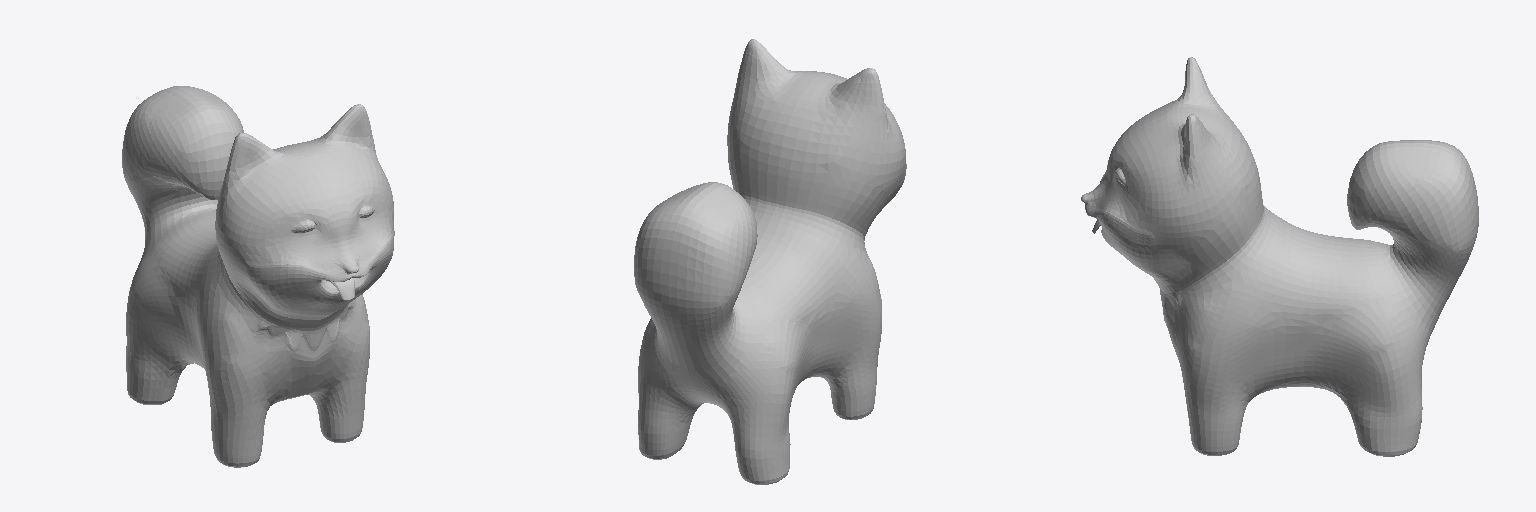
Rendered from Shiba1.obj.
The picture shows the model from 3 angles: view 1: azimuth 30°, elevation 25°; view 2: azimuth 150°, elevation 25°; view 3: azimuth 270°, elevation 25°; orthographic projection.
Parts seen in each view (by area): view 1: Shiba_inu; view 2: Shiba_inu; view 3: Shiba_inu.
Part boxes in pixels (x1,y1,x2,y2): Shiba_inu: (122, 86, 394, 467); Shiba_inu: (634, 39, 906, 484); Shiba_inu: (1081, 57, 1478, 456).
Bounding box in the file's own units: 0.1279 × 0.2521 × 0.2684.